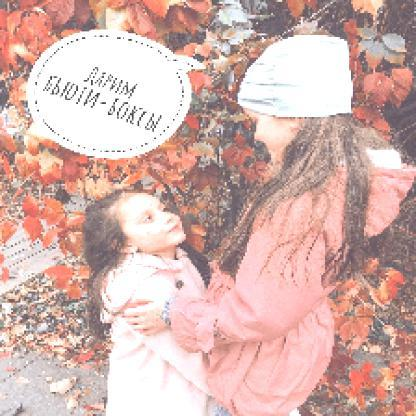child: (83, 189, 209, 416)
